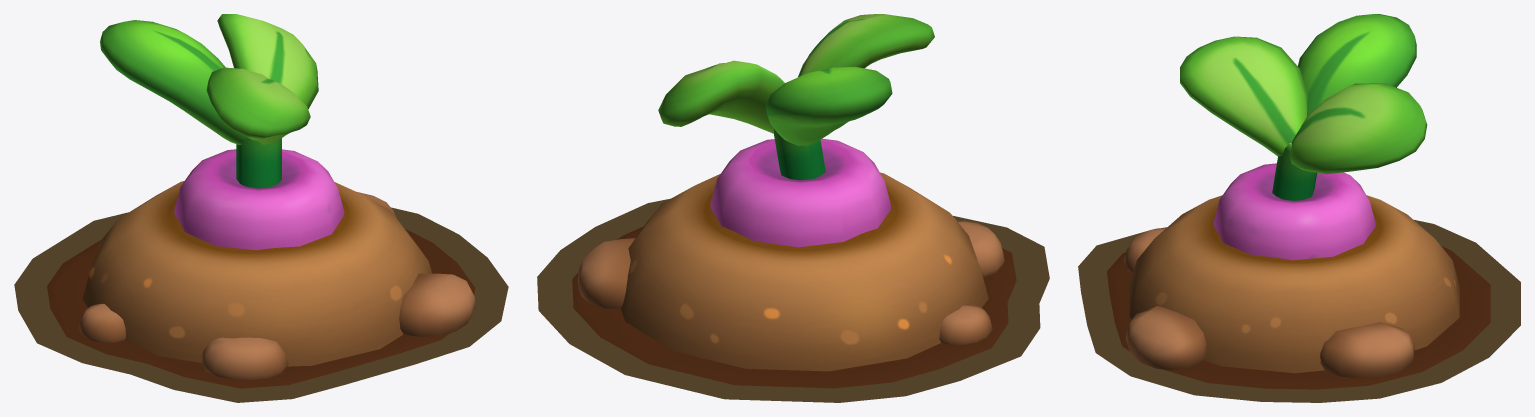
File: CarrotP_L01.fbx
The picture shows the model from 3 angles, left to right: view 1: azimuth 30°, elevation 25°; view 2: azimuth 150°, elevation 25°; view 3: azimuth 270°, elevation 25°; orthographic projection. The views are drawn at different scales.
Parts seen in each view (by area): view 1: CarrotP01_body, CarrotP01SDW; view 2: CarrotP01_body, CarrotP01SDW; view 3: CarrotP01_body, CarrotP01SDW.
Boxes of the visible parts, x1,y1,x2,y2 form: CarrotP01_body: [47, 14, 475, 388]; CarrotP01SDW: [14, 207, 508, 402]; CarrotP01_body: [572, 14, 1016, 388]; CarrotP01SDW: [537, 198, 1049, 402]; CarrotP01_body: [1107, 14, 1490, 389]; CarrotP01SDW: [1078, 220, 1520, 402].
Size of the model in its own units: 111 by 76.83 by 104.
Materials: 2 (1 with a texture image).
